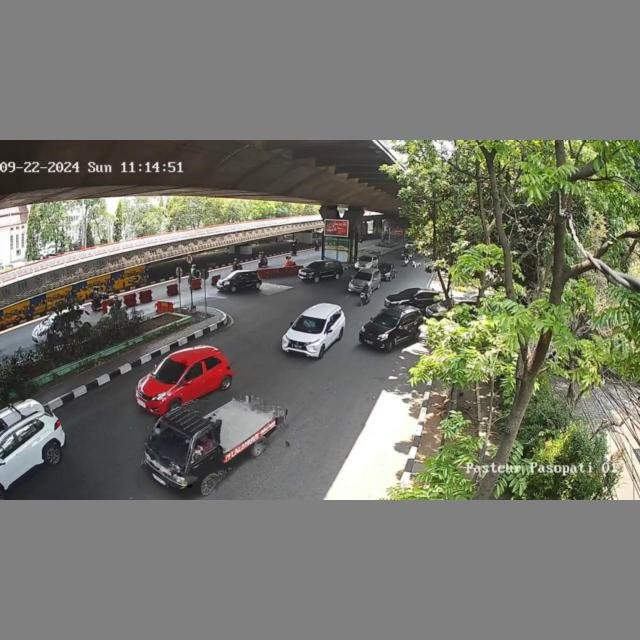windshield: (149, 421, 191, 464), (149, 356, 187, 385), (291, 314, 327, 334), (372, 312, 399, 329), (354, 271, 373, 281)
